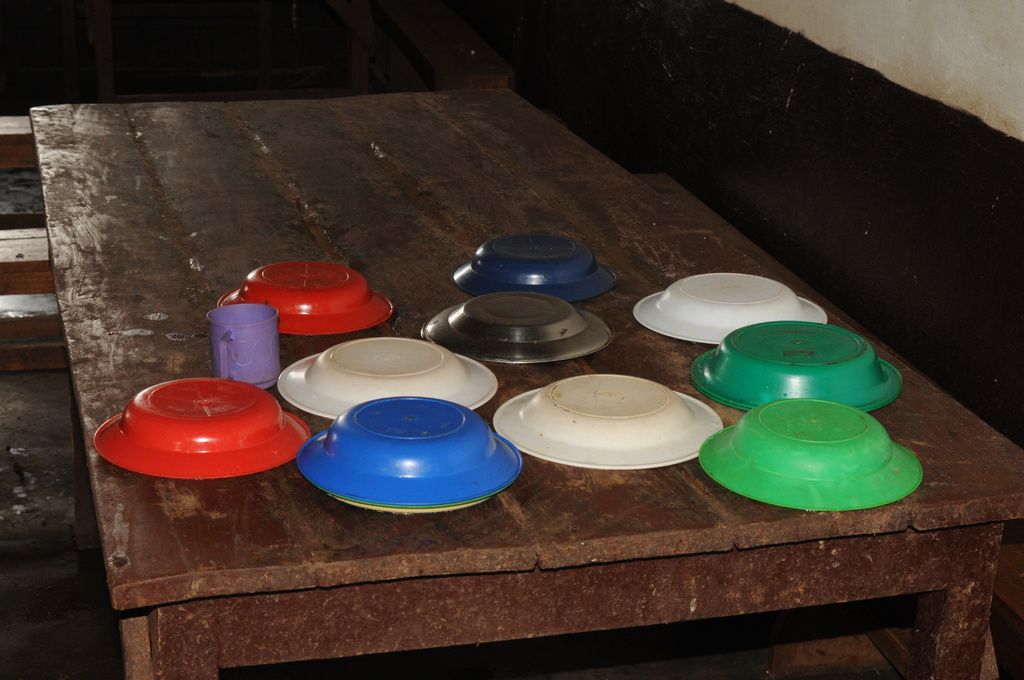plate: (518, 371, 718, 468)
